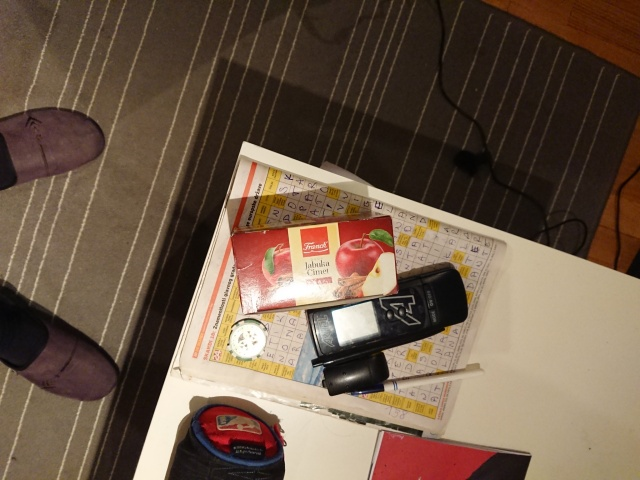Franck Apple Cinnamon Tea 60g: (227, 208, 402, 318)
